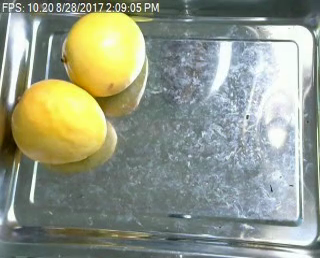Mango: (11, 79, 106, 165), (62, 10, 145, 96)
